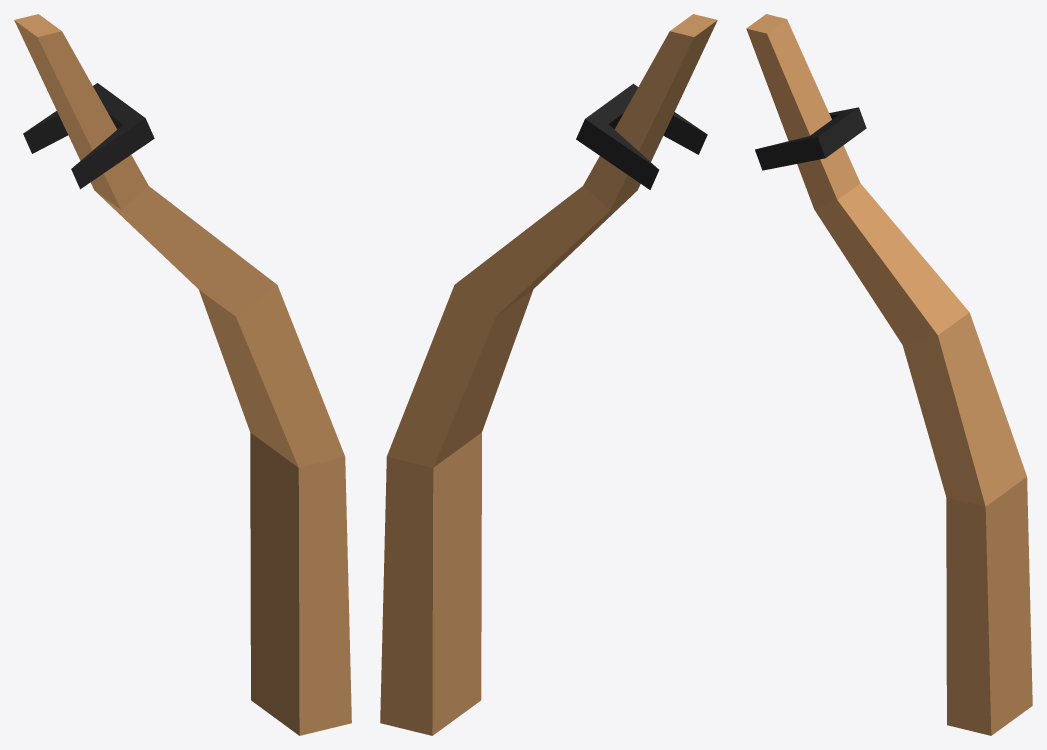
File: cart_spring_right.fbx
The picture shows the model from 3 angles, left to right: view 1: azimuth 30°, elevation 25°; view 2: azimuth 150°, elevation 25°; view 3: azimuth 330°, elevation 25°; orthographic projection. The views are drawn at different scales.
Visible parts, largest first — view 1: springs; view 2: springs; view 3: springs.
Part boxes in pixels (x1,y1,x2,y2): springs: (14,14,351,735); springs: (380,14,717,735); springs: (746,14,1032,735).
Bounding box in the file's own units: 56.77 × 135 × 16.07.
